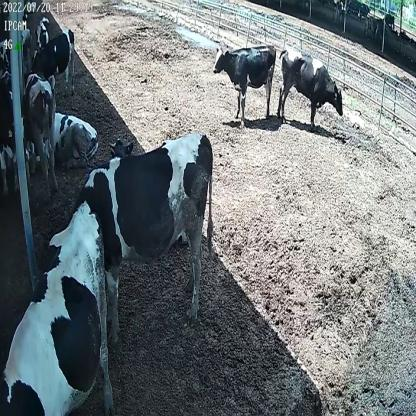cow: (63, 130, 217, 340), (212, 36, 278, 128), (277, 43, 346, 130), (21, 74, 58, 197), (28, 26, 77, 98), (33, 15, 52, 53)
